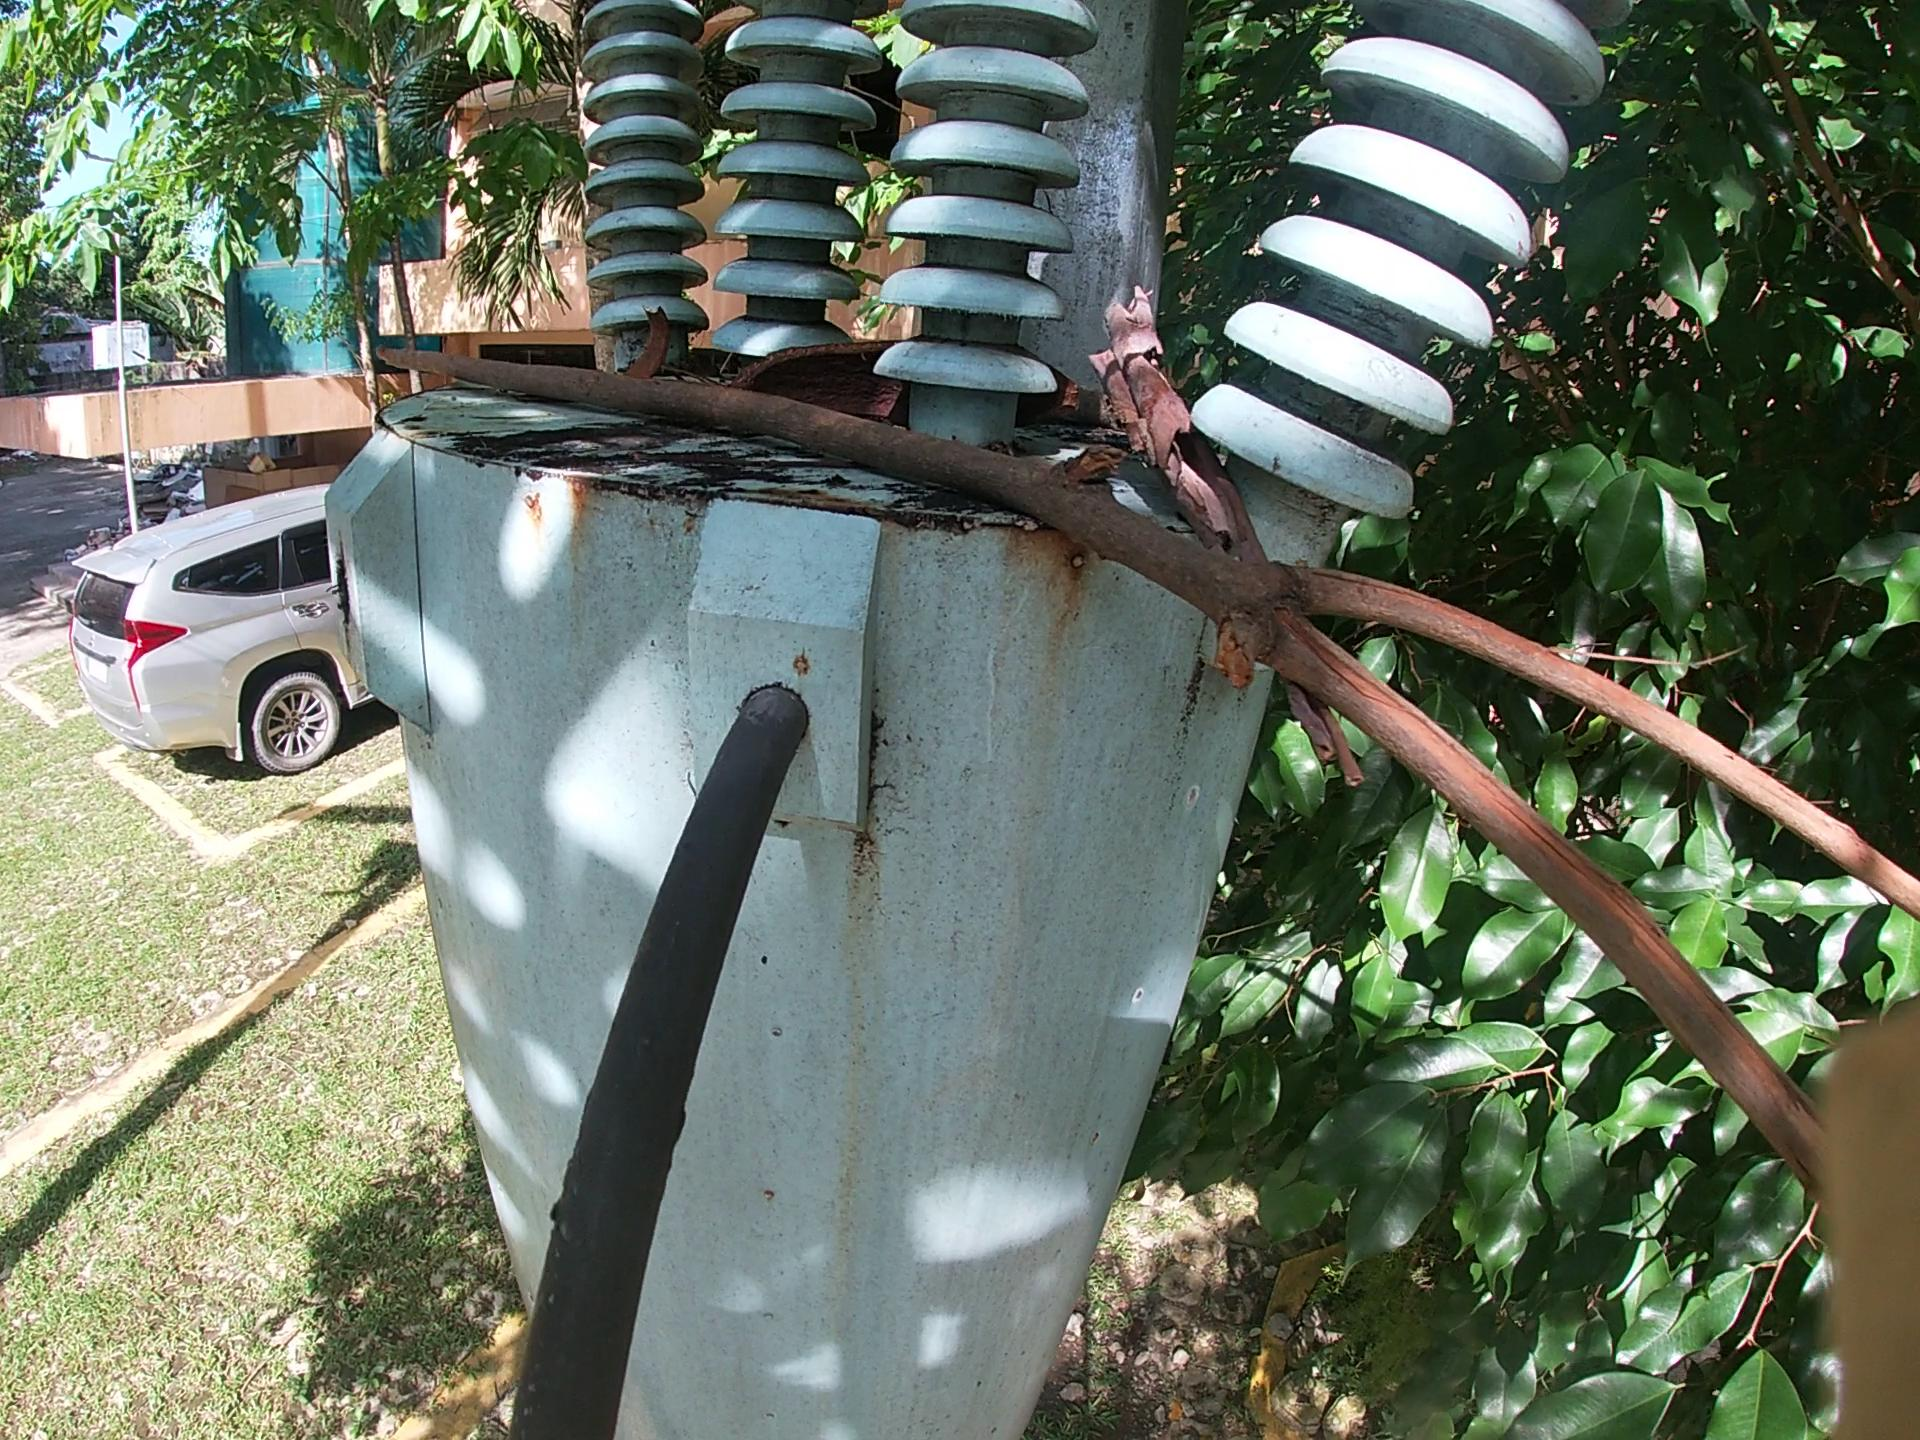mahogany fruit: (726, 330, 909, 411), (1017, 358, 1098, 448), (621, 298, 685, 375)
tree branch: (405, 365, 1918, 1280), (1101, 298, 1367, 806)
